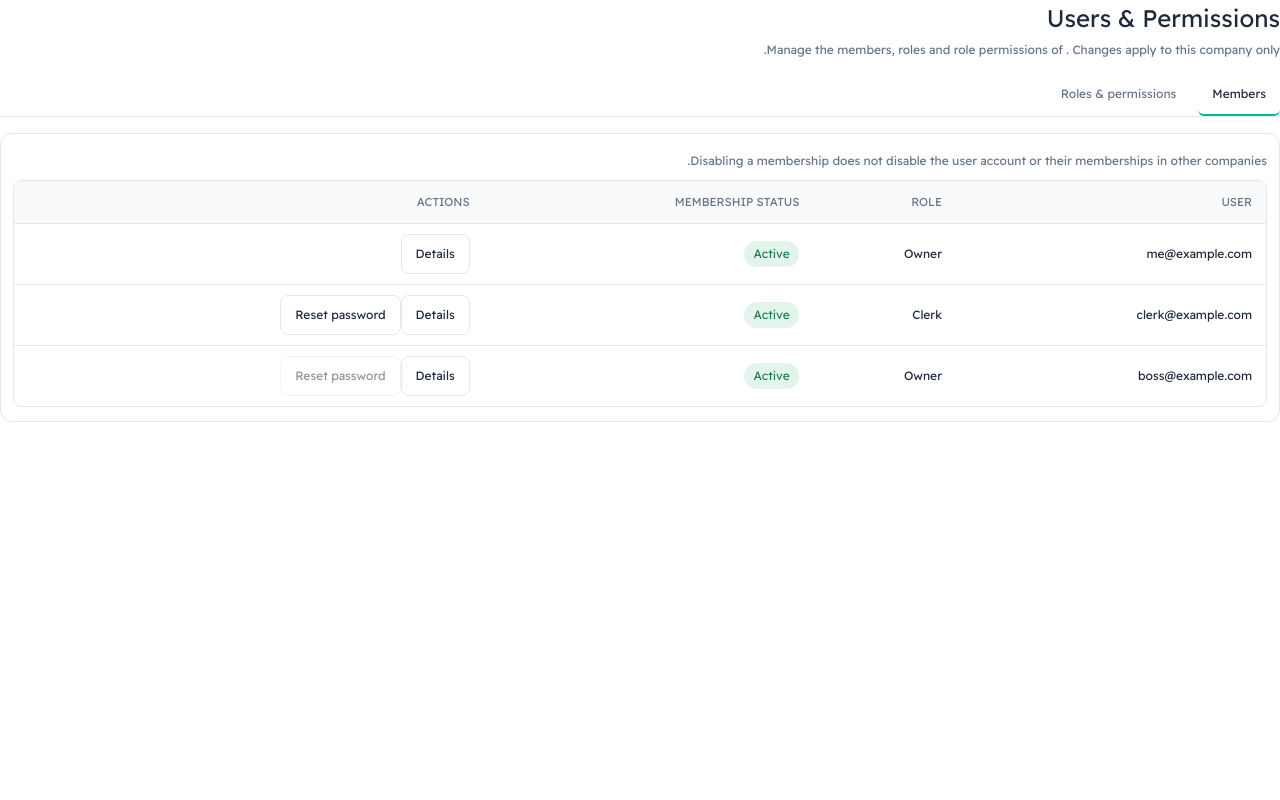
Test: administrative reset in Users & Permissions › shows the server refusal in plain language
Click the button "Reset password" in the row of "clerk@example.com".
click(340, 315)  # box [280,295,401,335]
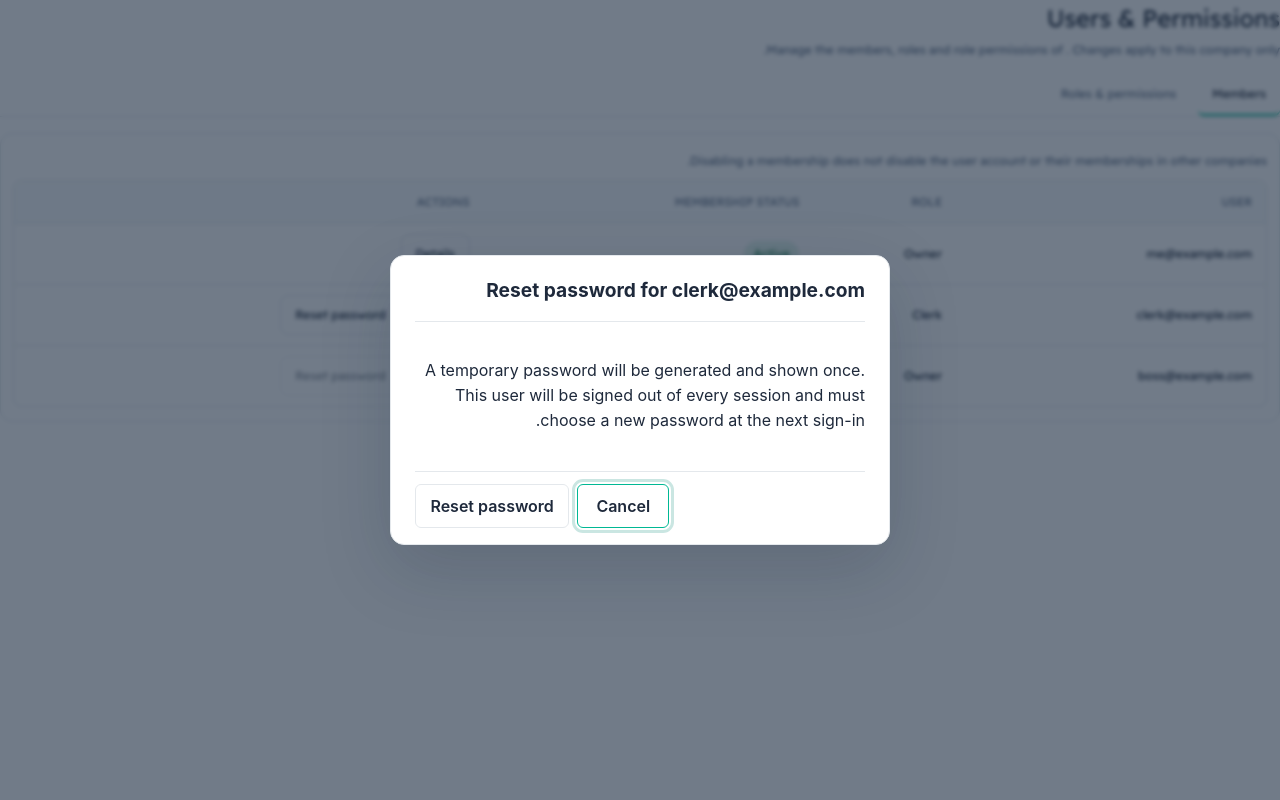
Click the button "Reset password".
click(492, 506)  # box [415,484,569,528]
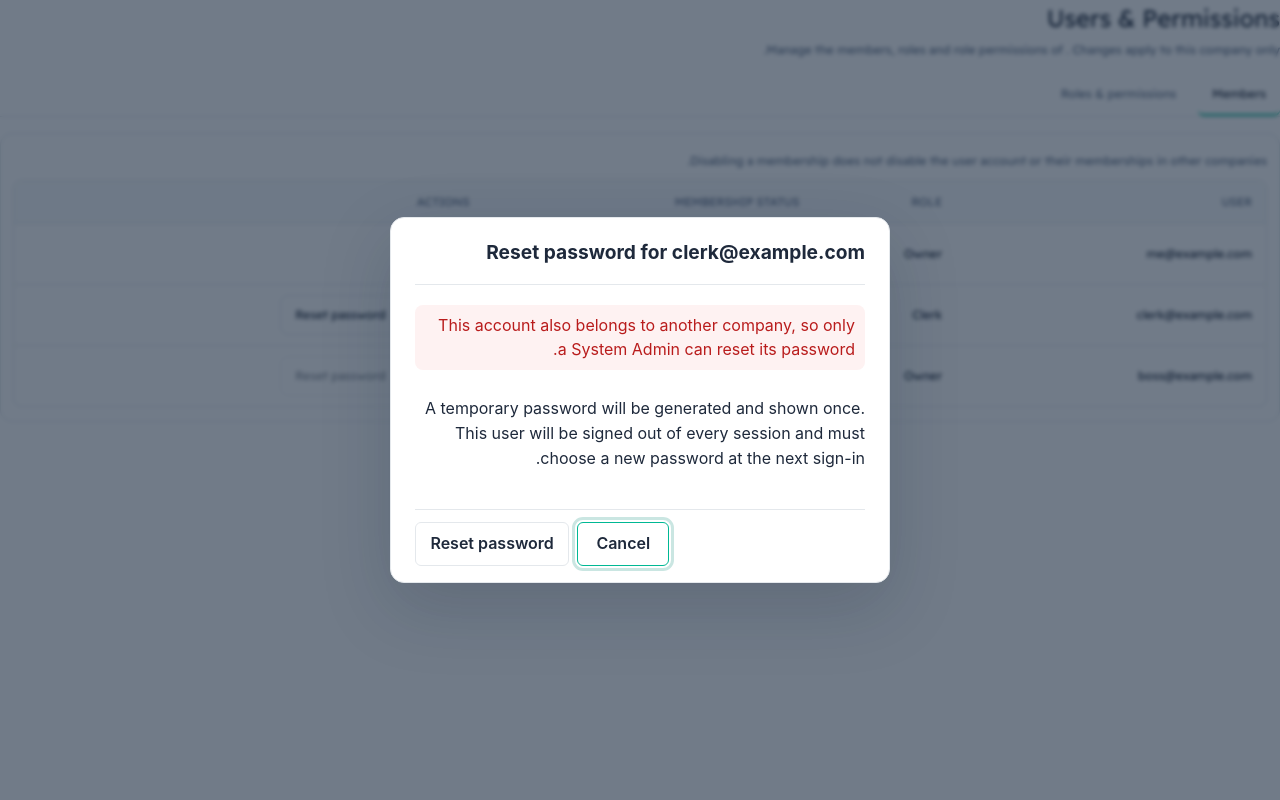
Expected: the message shows "belongs to another company", [438,315,855,360]
